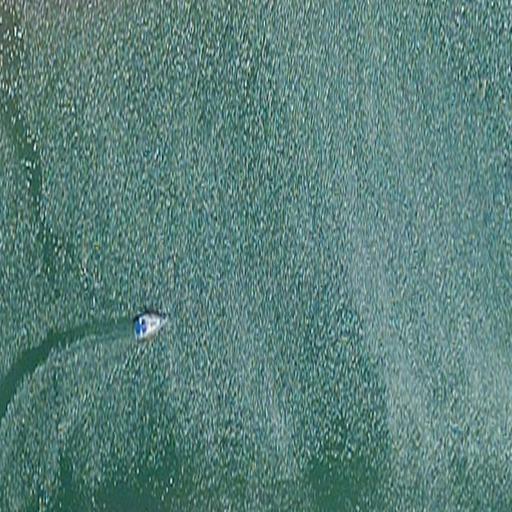ship: (132, 311, 170, 343)
